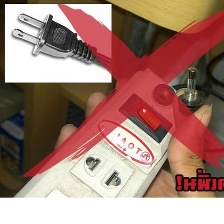three_eye_plug: (0, 59, 194, 224)
